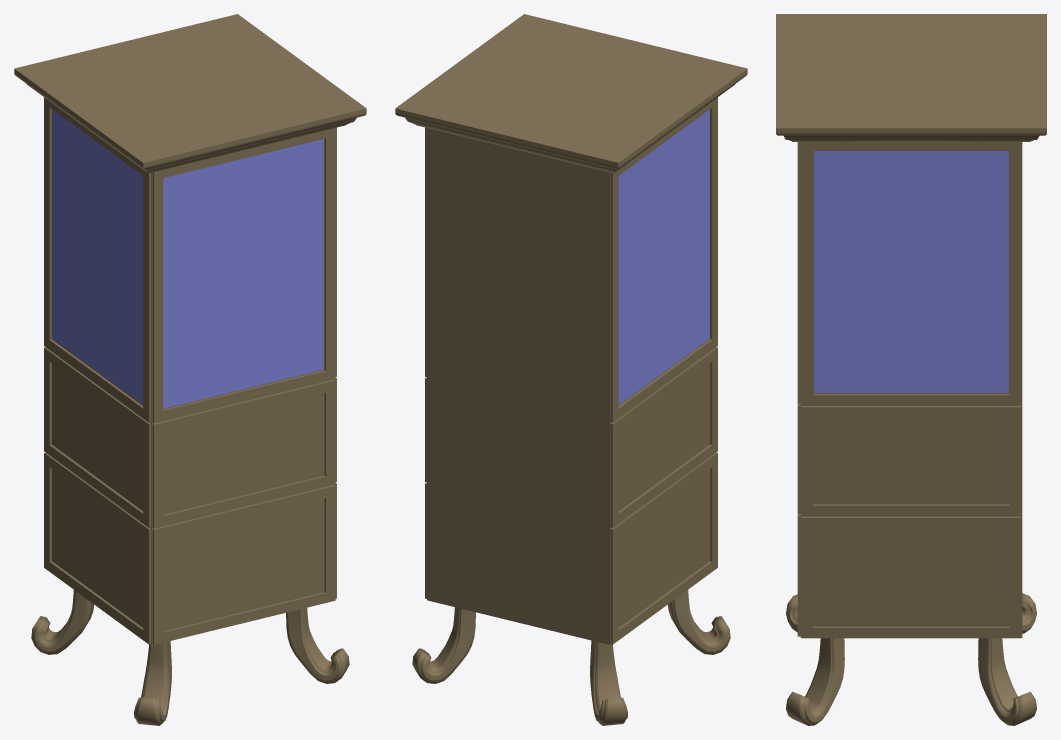
The model's file is Zoltar.fbx.
The picture shows the model from 3 angles, left to right: view 1: azimuth 30°, elevation 25°; view 2: azimuth 150°, elevation 25°; view 3: azimuth 270°, elevation 25°; orthographic projection. The views are drawn at different scales.
Visible parts, largest first — view 1: Zoltar; view 2: Zoltar; view 3: Zoltar.
Boxes of the visible parts, bbox=[...] form: Zoltar: bbox=[14, 14, 366, 725]; Zoltar: bbox=[395, 14, 747, 725]; Zoltar: bbox=[776, 14, 1046, 725].
Bounding box in the file's own units: 543 × 1339 × 543.
